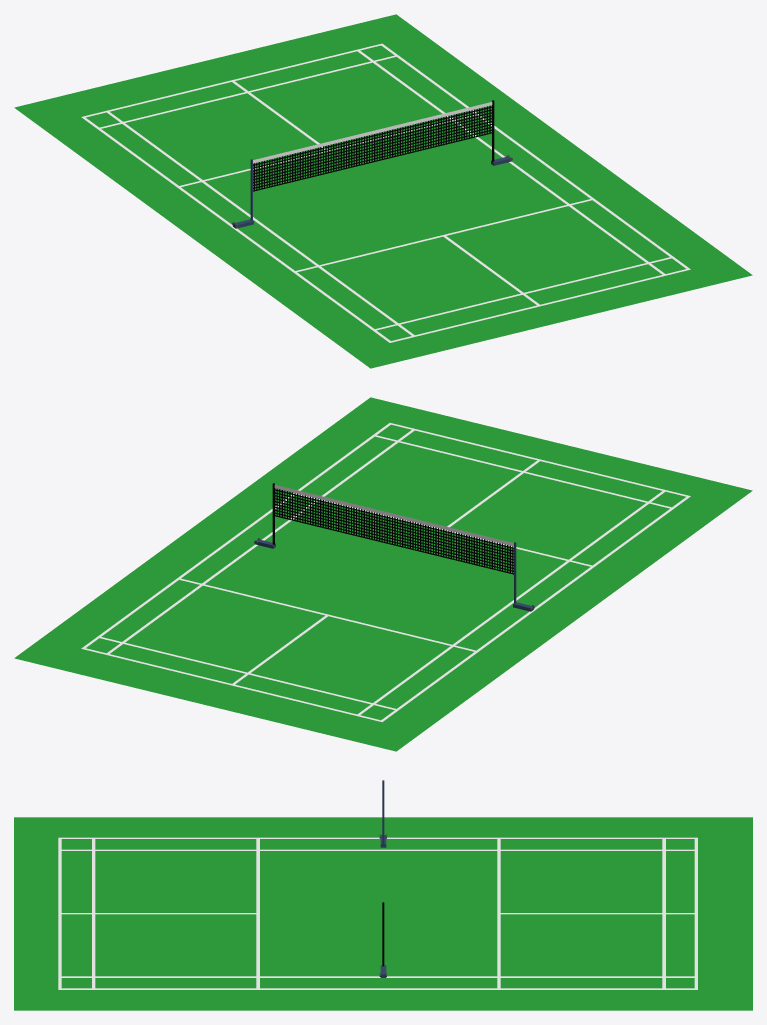
Rendered from Badminton_court.fbx.
3 renders of one model, top to bottom at view 1: azimuth 30°, elevation 25°; view 2: azimuth 150°, elevation 25°; view 3: azimuth 270°, elevation 25°, orthographic. The views are drawn at different scales.
Visible parts, largest first — view 1: Badminton_court; view 2: Badminton_court; view 3: Badminton_court.
Part boxes in pixels (box(x1,y1,x2,y2)): Badminton_court: box(14, 14, 752, 368); Badminton_court: box(14, 397, 752, 751); Badminton_court: box(14, 780, 752, 1010).
Size of the model in its own units: 1379 by 221 by 2228.
